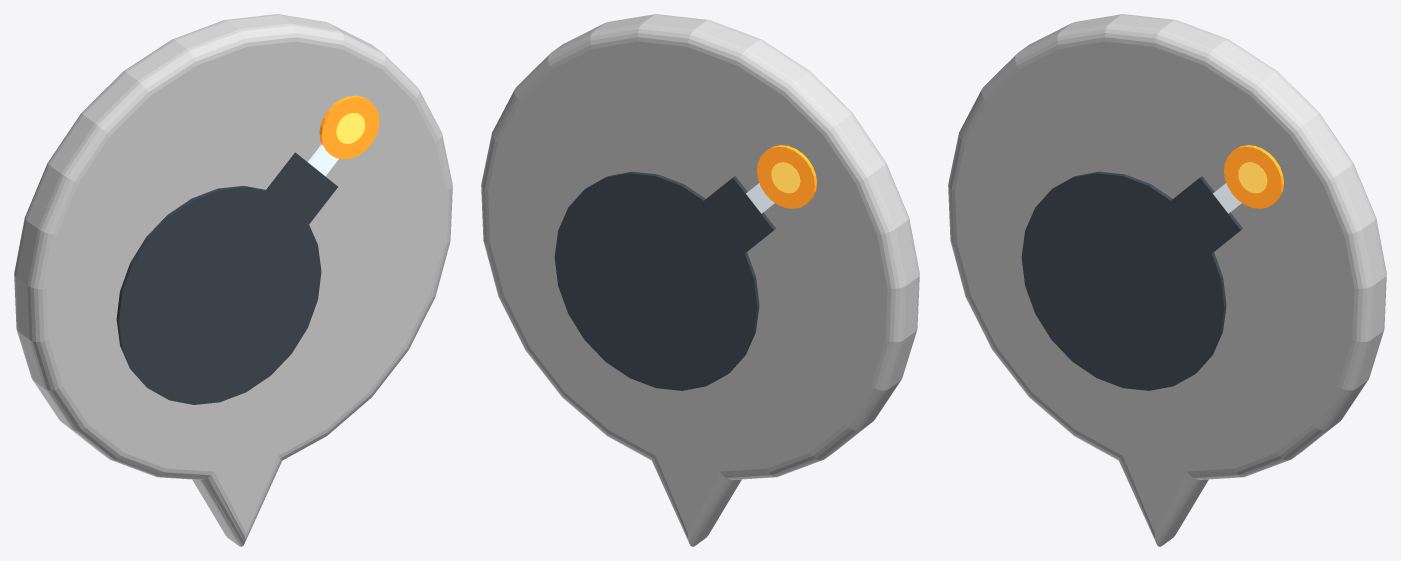
The model's file is bomb.glb.
3 renders of one model, left to right at view 1: azimuth 30°, elevation 25°; view 2: azimuth 150°, elevation 25°; view 3: azimuth 330°, elevation 25°, orthographic.
Parts seen in each view (by area): view 1: EmotionBubble; view 2: EmotionBubble; view 3: EmotionBubble.
Part boxes in pixels (box(x1,y1,x2,y2)): EmotionBubble: box(14, 14, 452, 546); EmotionBubble: box(481, 14, 919, 546); EmotionBubble: box(948, 14, 1386, 546).
Bounding box in the file's own units: 5.29 × 6.16 × 0.694.
